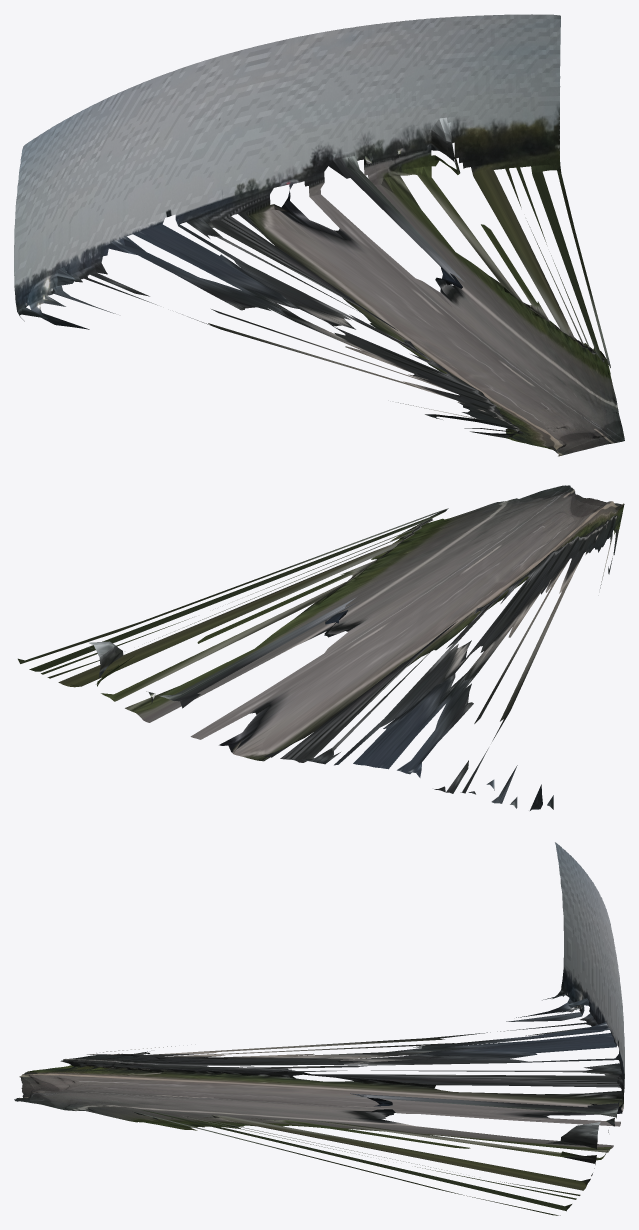
3 renders of one model, top to bottom at view 1: azimuth 30°, elevation 25°; view 2: azimuth 150°, elevation 25°; view 3: azimuth 270°, elevation 25°, orthographic. The views are drawn at different scales.
Parts seen in each view (by area): view 1: defaultobject; view 2: defaultobject; view 3: defaultobject.
Part boxes in pixels (x1,y1,x2,y2): defaultobject: (14, 14, 624, 456); defaultobject: (18, 485, 624, 810); defaultobject: (14, 842, 624, 1215).
Size of the model in its own units: 41.16 by 13.78 by 44.82.
Materials: 1 (1 with a texture image).
